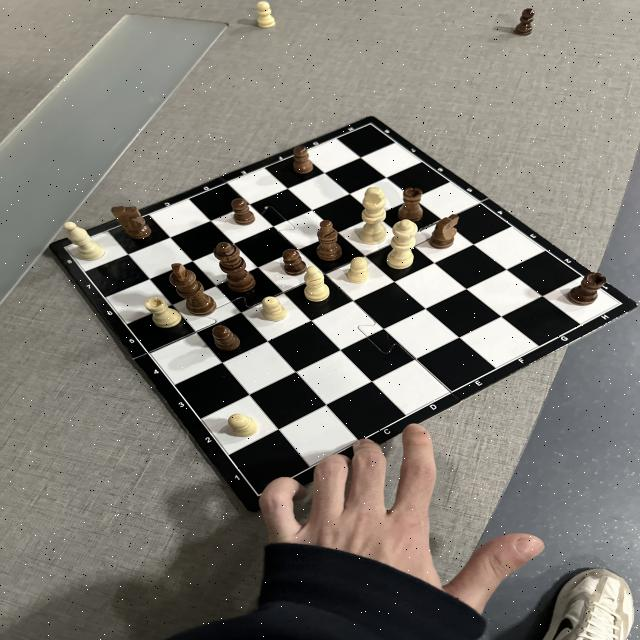Black-Bishop: (316, 220, 342, 261)
Black-King: (169, 262, 217, 316)
Black-Knight: (110, 205, 152, 239), (429, 214, 459, 249)
Black-Pawn: (230, 198, 256, 226), (282, 248, 308, 276), (212, 326, 240, 352), (512, 8, 536, 36), (293, 146, 313, 174)
Black-Queen: (213, 242, 255, 292)
Black-Rook: (566, 272, 606, 306), (397, 187, 423, 222)
White-Bishop: (63, 221, 105, 261), (304, 266, 330, 302)
White-King: (359, 187, 387, 245)
White-Pawn: (228, 413, 258, 438), (262, 296, 288, 322), (255, 1, 278, 29), (347, 257, 369, 284)
White-Queen: (386, 220, 418, 270)
White-Rook: (144, 296, 182, 328)
